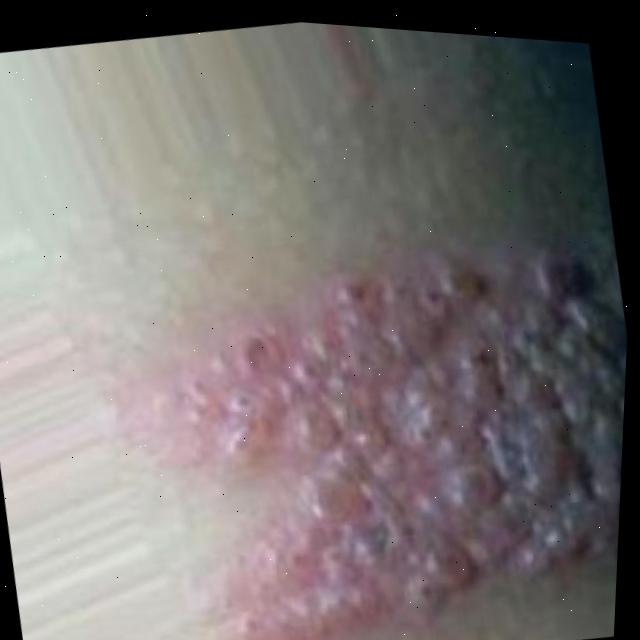Shingles: (111, 179, 632, 640)
